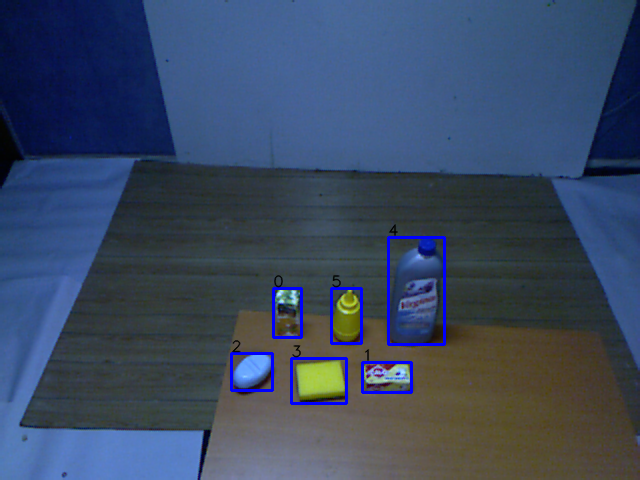cera: (384, 235, 449, 349)
esponja: (291, 357, 351, 405)
jabon: (230, 349, 277, 396)
jugoind: (272, 282, 309, 345)
mantequilla: (359, 359, 417, 399)
mostaza: (328, 285, 367, 346)
